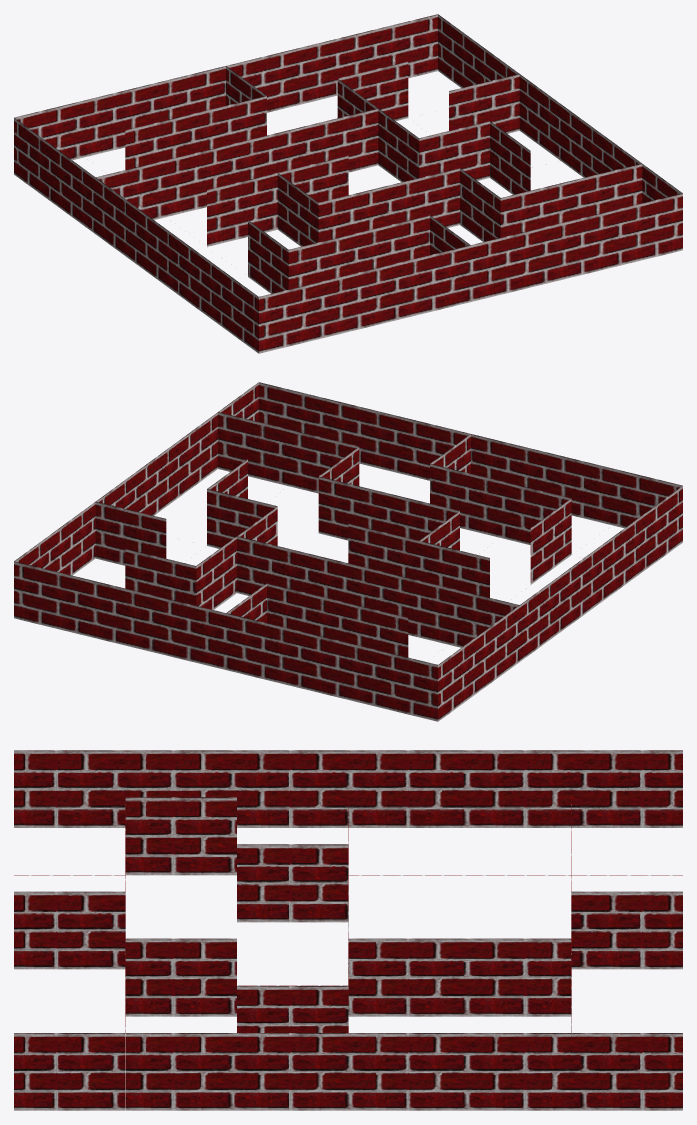
3 renders of one model, top to bottom at view 1: azimuth 30°, elevation 25°; view 2: azimuth 150°, elevation 25°; view 3: azimuth 270°, elevation 25°, orthographic. The views are drawn at different scales.
Visible parts, largest first — view 1: map; view 2: map; view 3: map.
Part boxes in pixels (x1,y1,x2,y2): map: [14, 14, 682, 353]; map: [14, 382, 682, 721]; map: [14, 750, 682, 1110].
Bounding box in the file's own units: 316 × 40.54 × 316.
1 material, 1 textured.
